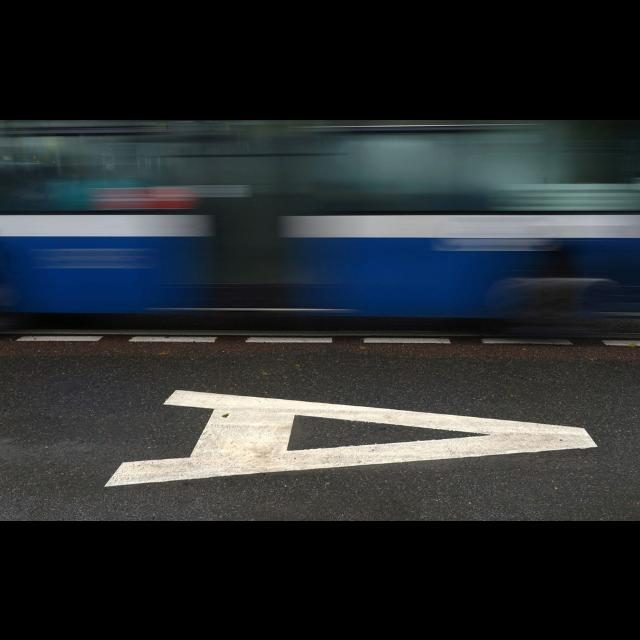road: (0, 319, 639, 520)
